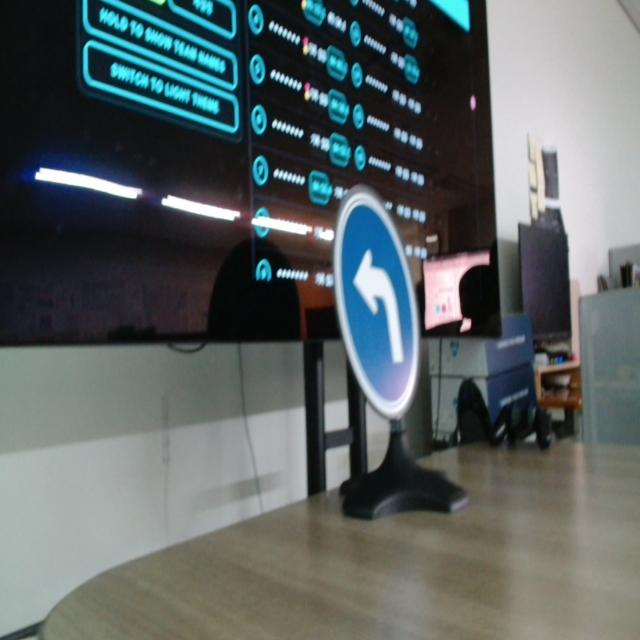left_direction: (323, 180, 438, 439)
